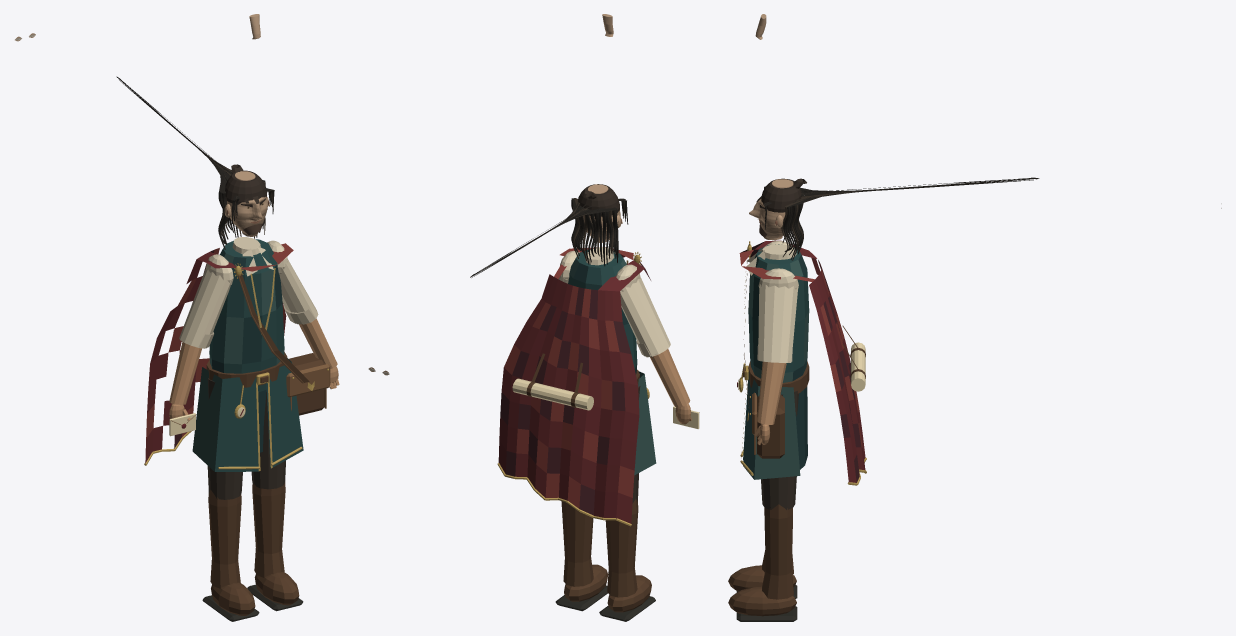
File: courier.glb
3 views of the same model, side by side, from view 1: azimuth 30°, elevation 25°; view 2: azimuth 150°, elevation 25°; view 3: azimuth 270°, elevation 25° (orthographic).
Parts seen in each view (by area): view 1: Waistcoat, Split_coat_R, Cloak_folds, Boot_shaft_R, Boot_shaft_L, Split_coat_L, Linen_sleeve_R, Forearm_R, Trouser_thigh_L, Linen_sleeve_L, Boot_toe_R, Boot_toe_L (+9 smaller); view 2: Cloak_folds, Boot_shaft_R, Boot_shaft_L, Linen_sleeve_R, Waistcoat, Split_coat_R, Map_roll, Forearm_R, Boot_toe_L, Boot_toe_R, Hair_target_top, Boot_sole_R (+1 smaller); view 3: Cloak_folds, Waistcoat, Linen_sleeve_L, Boot_shaft_L, Split_coat_L, Boot_toe_L, Forearm_L, Trouser_thigh_L, Messenger_satchel, Face, Hair_target_top, Back_coat (+1 smaller).
Part boxes in pixels (x1,y1,x2,y2): Waistcoat: (209,239,284,392); Split_coat_R: (192,367,258,471); Cloak_folds: (145,243,293,463); Boot_shaft_R: (208,490,241,588); Boot_shaft_L: (252,481,285,577); Split_coat_L: (266,358,303,468); Linen_sleeve_R: (179,267,231,348); Forearm_R: (169,342,201,404); Trouser_thigh_L: (251,392,285,489); Linen_sleeve_L: (279,258,318,324); Boot_toe_R: (211,582,255,615); Boot_toe_L: (254,572,299,605); Cloak_folds: (498,247,650,523); Boot_shaft_R: (605,499,638,597); Boot_shaft_L: (561,501,593,586); Linen_sleeve_R: (620,276,670,357); Waistcoat: (568,249,637,374); Split_coat_R: (634,371,656,475); Map_roll: (512,378,593,410); Forearm_R: (650,348,690,407); Boot_toe_L: (564,564,608,601); Boot_toe_R: (607,575,651,612); Hair_target_top: (578,184,619,216); Boot_sole_R: (599,596,655,621); Cloak_folds: (739,240,865,482); Waistcoat: (748,244,809,382); Linen_sleeve_L: (758,284,798,362); Boot_shaft_L: (762,504,793,599); Split_coat_L: (743,372,800,479); Boot_toe_L: (728,586,796,616); Forearm_L: (757,361,786,424); Trouser_thigh_L: (761,390,798,509); Messenger_satchel: (757,394,784,458); Face: (749,179,793,240); Hair_target_top: (761,178,801,212); Back_coat: (795,386,807,469).
Bounding box in the file's own units: 0.7395 × 2.41 × 1.83.
